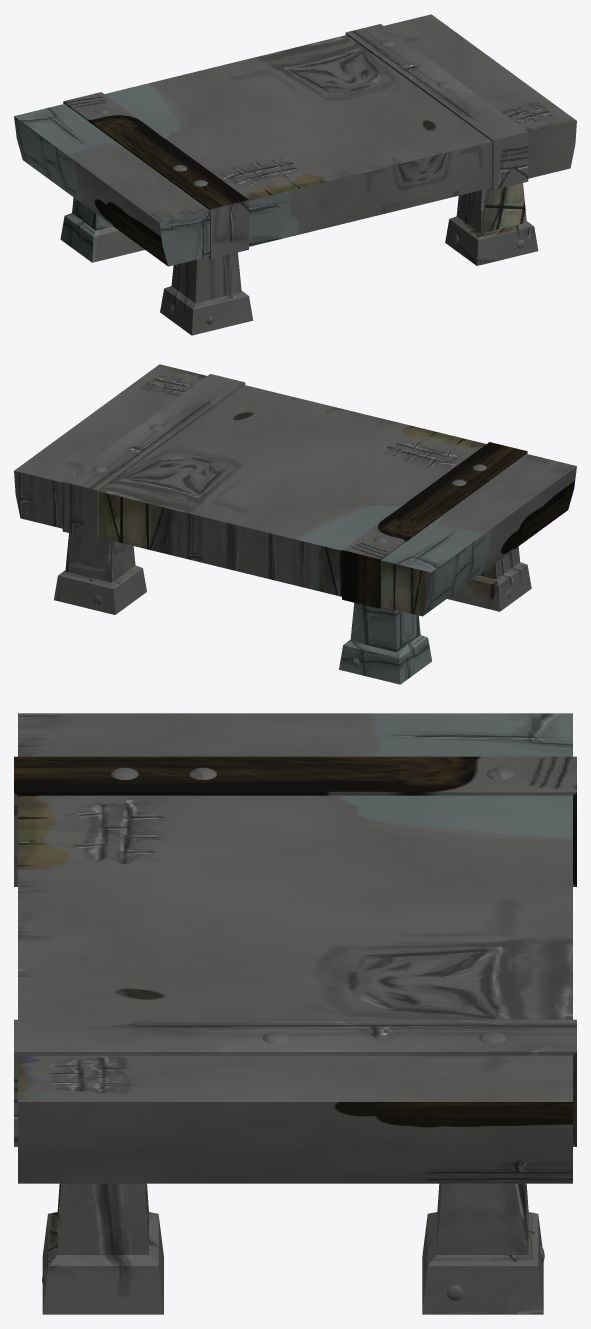
Rendered from TableModel.fbx.
3 renders of one model, top to bottom at view 1: azimuth 30°, elevation 25°; view 2: azimuth 150°, elevation 25°; view 3: azimuth 270°, elevation 25°, orthographic. The views are drawn at different scales.
Parts seen in each view (by area): view 1: Box001; view 2: Box001; view 3: Box001.
Boxes of the visible parts, x1,y1,x2,y2 form: Box001: [14, 14, 576, 335]; Box001: [14, 364, 576, 684]; Box001: [14, 713, 576, 1314].
Bounding box in the file's own units: 64.53 × 19.36 × 39.51.
